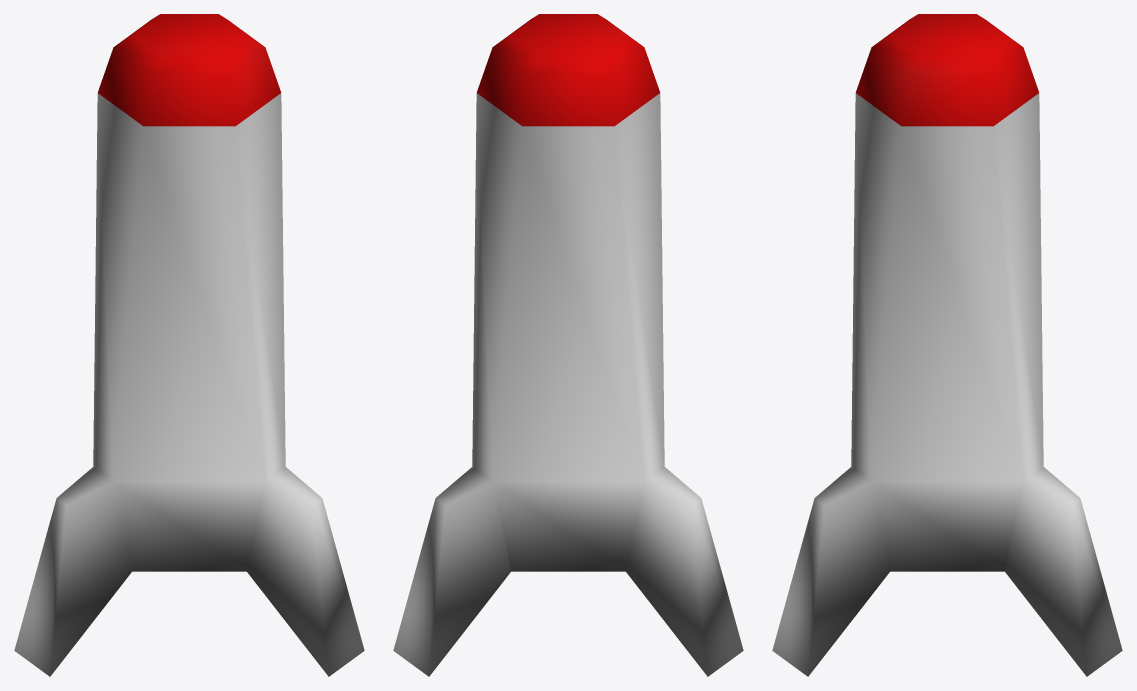
Rendered from missile.fbx.
The picture shows the model from 3 angles, left to right: view 1: azimuth 30°, elevation 25°; view 2: azimuth 150°, elevation 25°; view 3: azimuth 270°, elevation 25°; orthographic projection.
Visible parts, largest first — view 1: Missile; view 2: Missile; view 3: Missile.
Boxes of the visible parts, x1=… form: Missile: x1=14, y1=14, x2=364, y2=676; Missile: x1=393, y1=14, x2=743, y2=676; Missile: x1=772, y1=14, x2=1122, y2=676.
Bounding box in the file's own units: 1.14 × 2.44 × 1.31.
